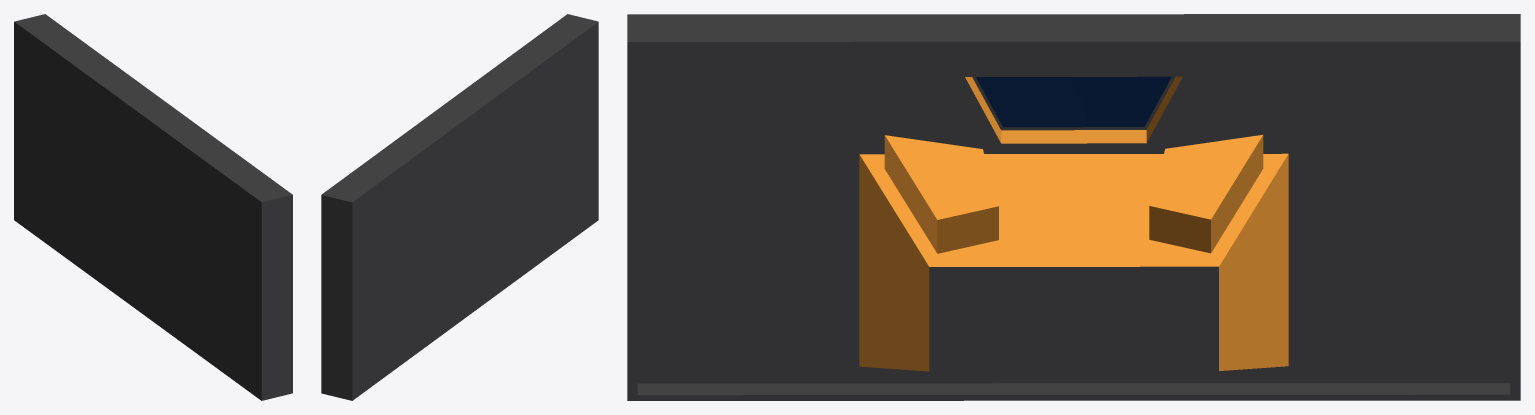
The model's file is TicketMachineMouthV1.fbx.
The picture shows the model from 3 angles, left to right: view 1: azimuth 30°, elevation 25°; view 2: azimuth 150°, elevation 25°; view 3: azimuth 270°, elevation 25°; orthographic projection. The views are drawn at different scales.
Parts seen in each view (by area): view 1: TicketMachineMouthV1; view 2: TicketMachineMouthV1; view 3: TicketMachineMouthV1.
Boxes of the visible parts, x1,y1,x2,y2 form: TicketMachineMouthV1: [14, 14, 292, 400]; TicketMachineMouthV1: [321, 14, 598, 400]; TicketMachineMouthV1: [627, 14, 1520, 400].
Size of the model in its own units: 0.2152 by 0.4691 by 1.06.
